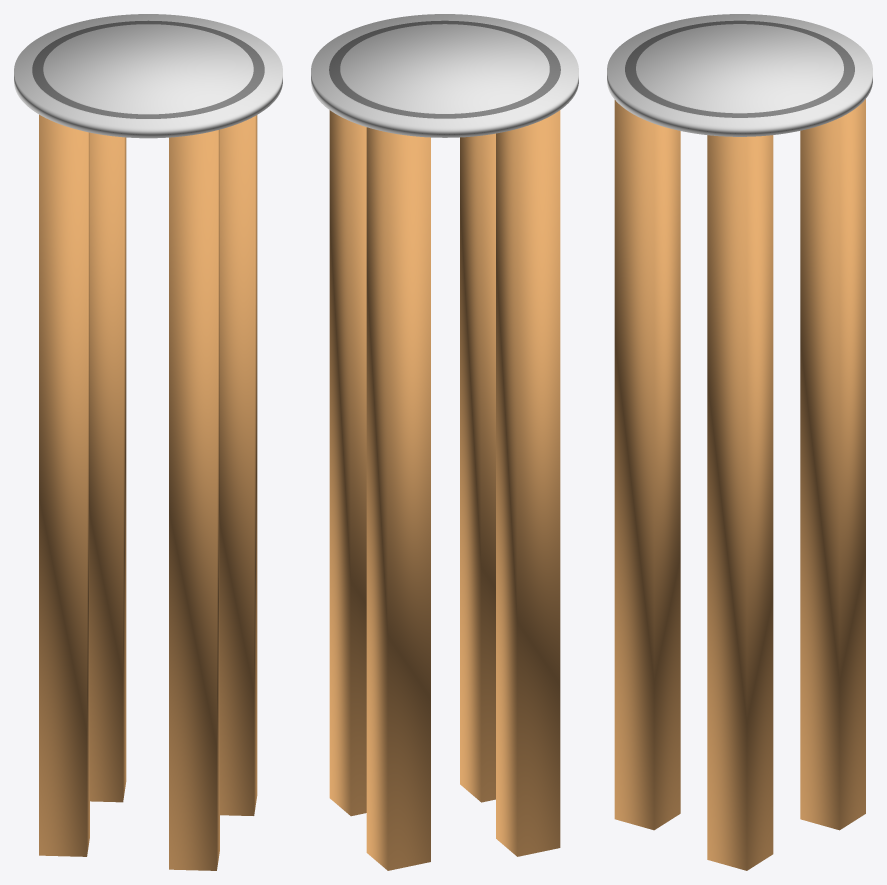
Rendered from platformsmoothshade.fbx.
The picture shows the model from 3 angles, left to right: view 1: azimuth 30°, elevation 25°; view 2: azimuth 150°, elevation 25°; view 3: azimuth 270°, elevation 25°; orthographic projection.
Visible parts, largest first — view 1: Cylinder.003; view 2: Cylinder.003; view 3: Cylinder.003.
Part boxes in pixels (x1,y1,x2,y2): Cylinder.003: (14, 14, 282, 870); Cylinder.003: (311, 14, 578, 870); Cylinder.003: (607, 14, 872, 870).
Size of the model in its own units: 3647 by 11328 by 3647.
